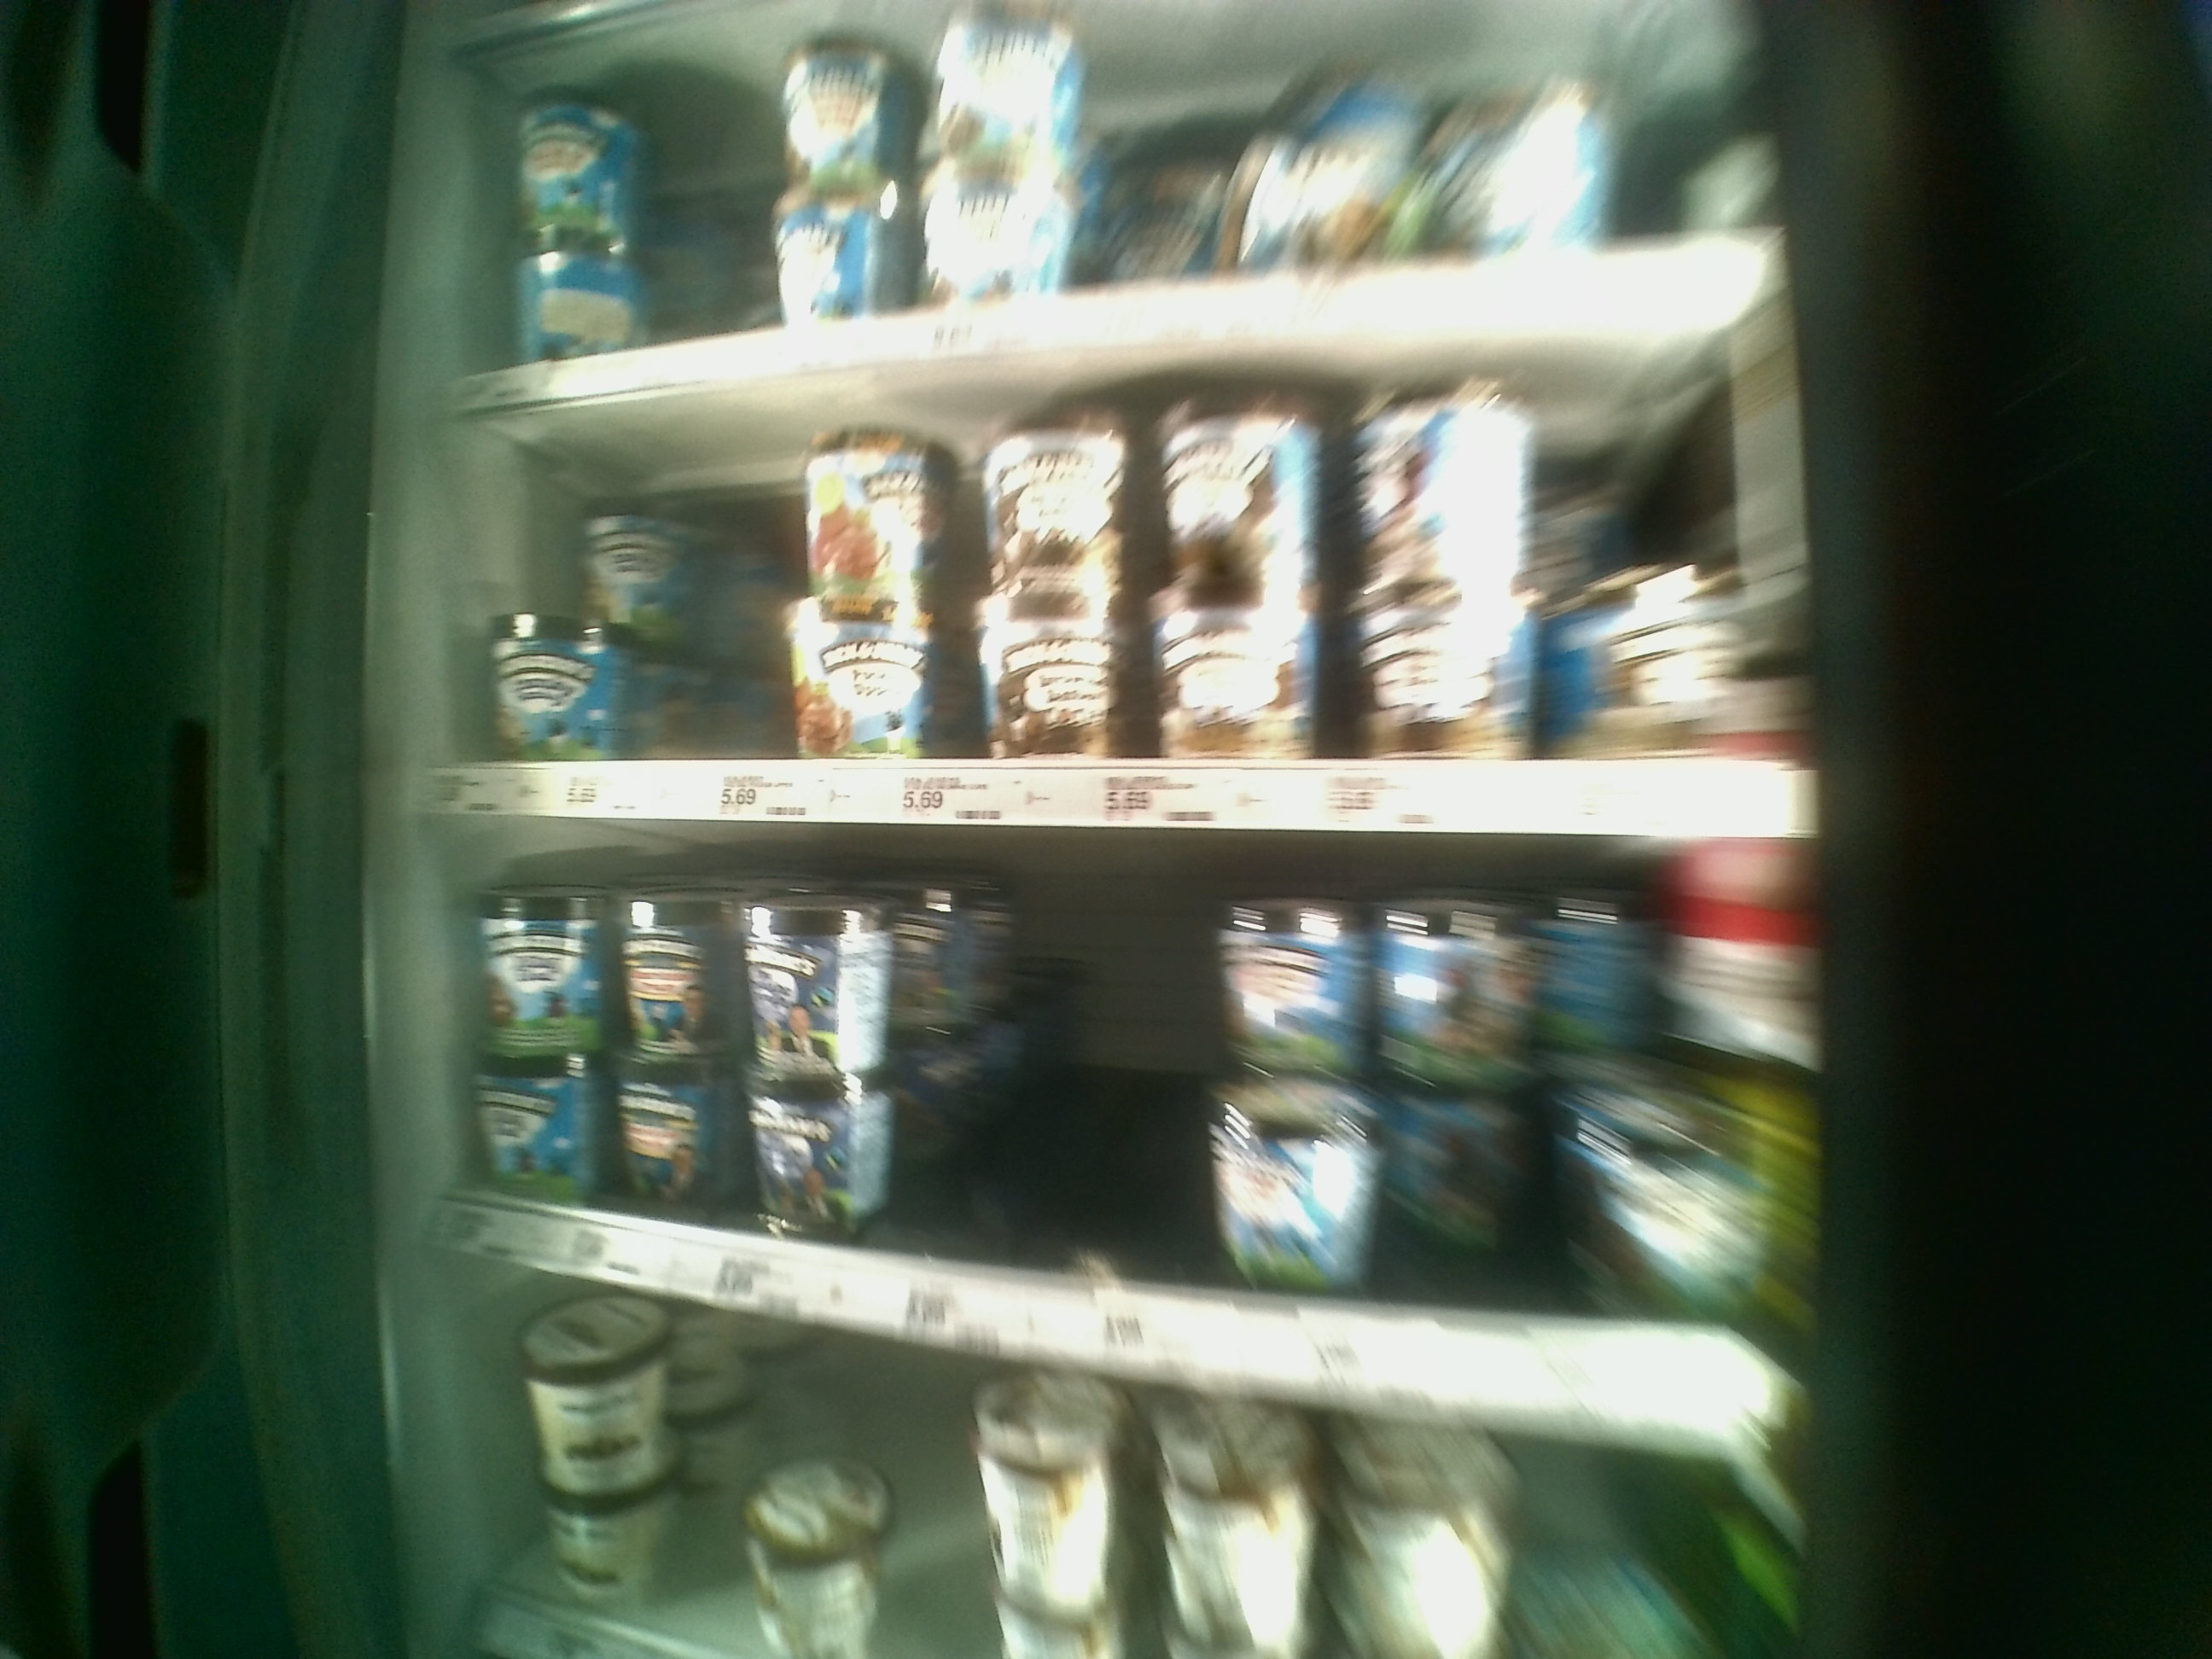shelf: (409, 798, 1806, 1441)
